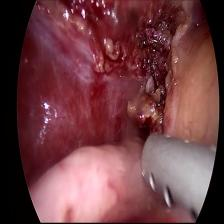Irrigator: (134, 126, 218, 220)
